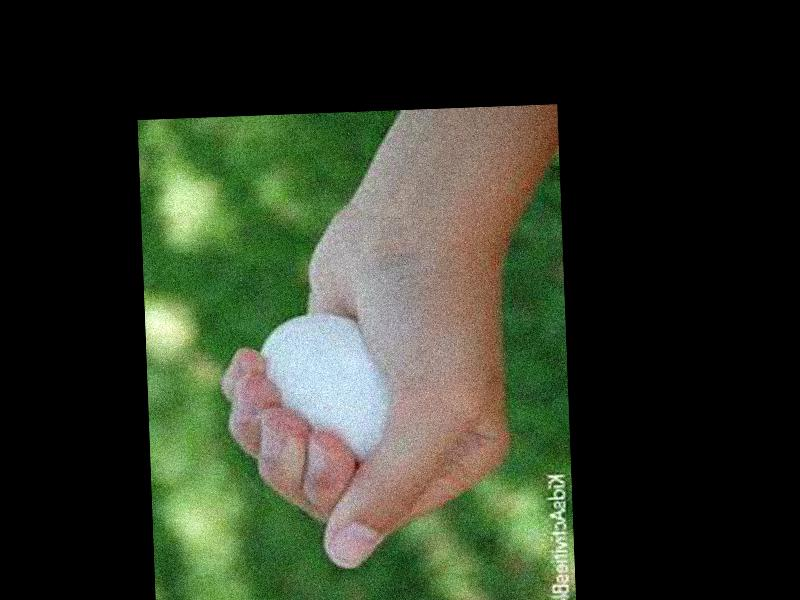Eggs: (257, 312, 391, 466)
